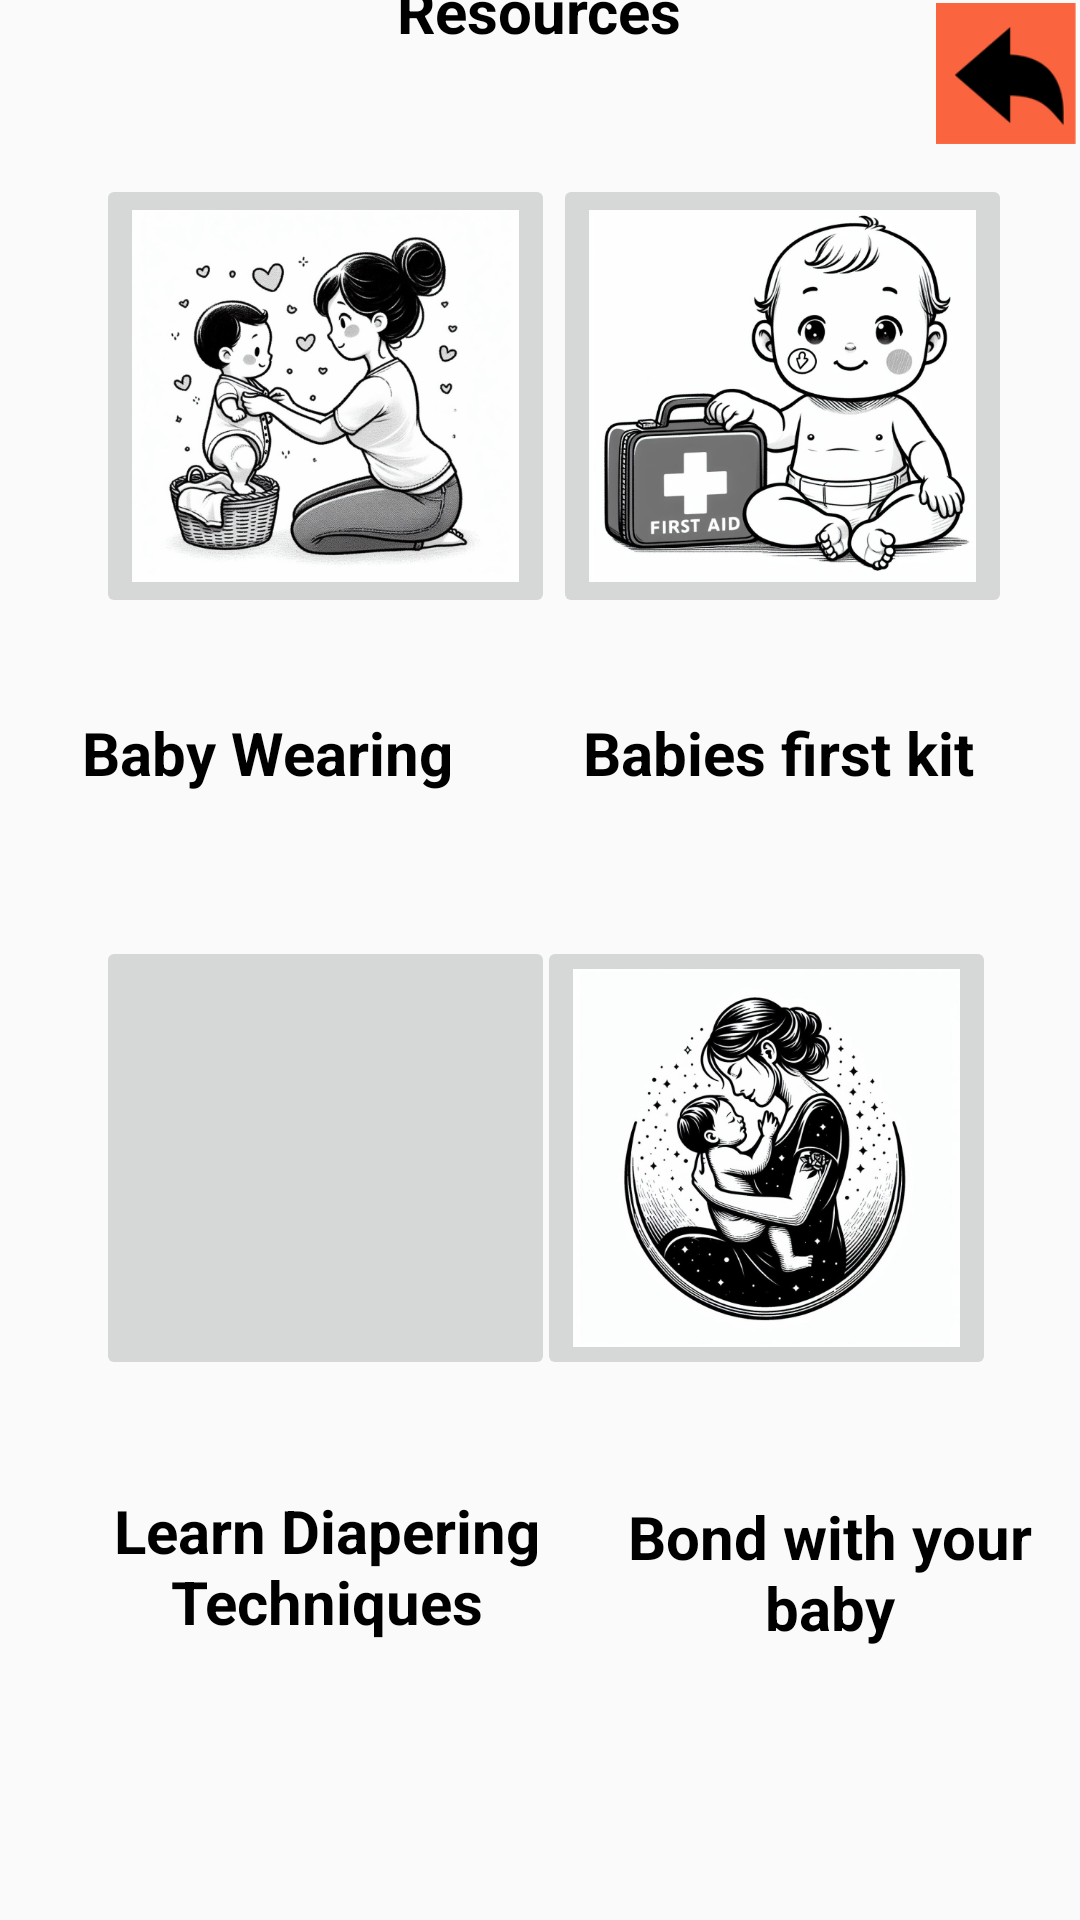

Named icons in this screenshot (1080px x 1920px) and their bounding boxes, (x1, y1, x2, y2):
back: (936, 3, 1076, 144)
